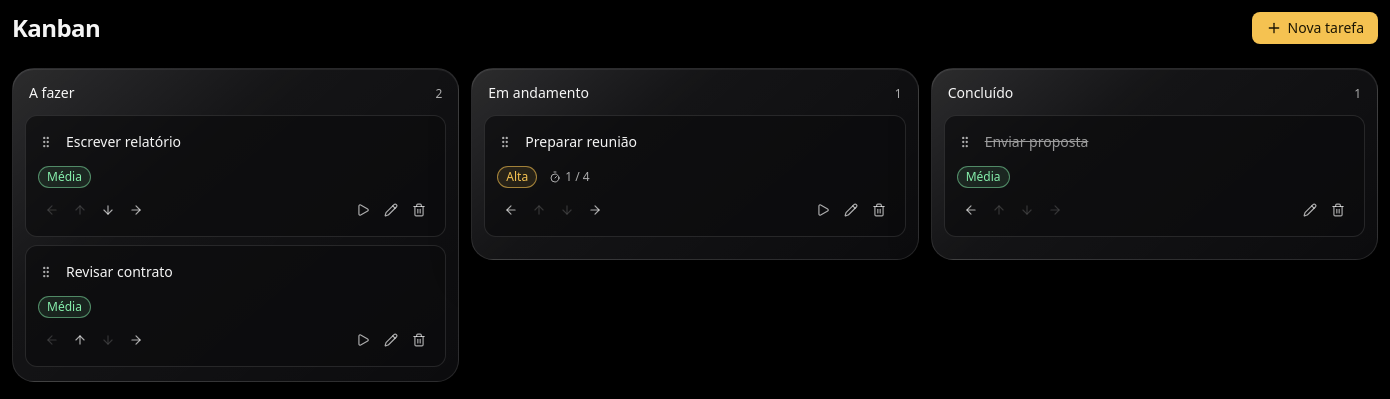
Test: KanbanPage › foca em uma tarefa e a destaca; tarefas concluídas não têm o botão
What coordinates should you click on to do the following:
click the button named "Focar nesta tarefa" below "Escrever relatório"
I would click on:
 (363, 210)
Its box is [349,196,377,224].
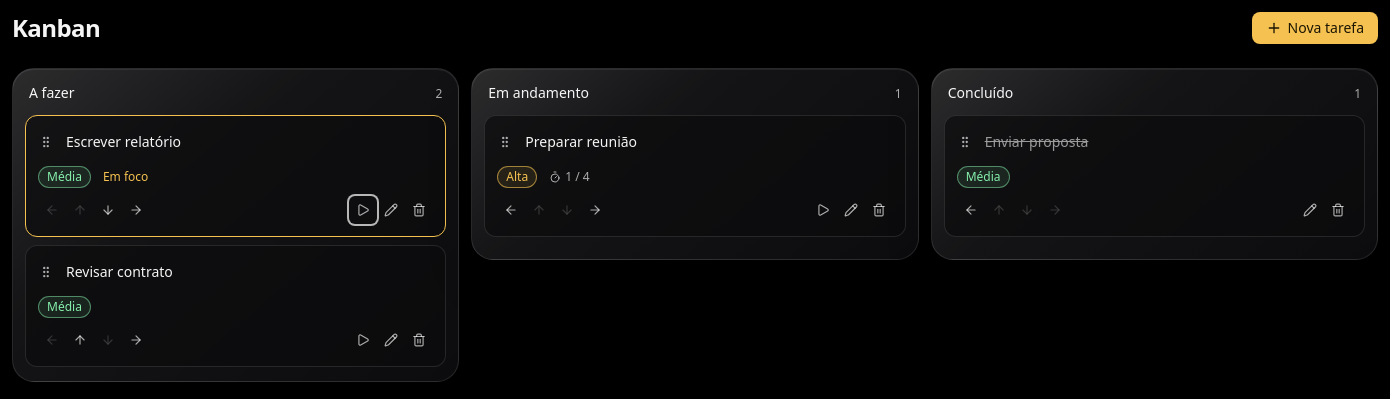
Expected: the text "Em foco" is shown, [103,169,148,185]
